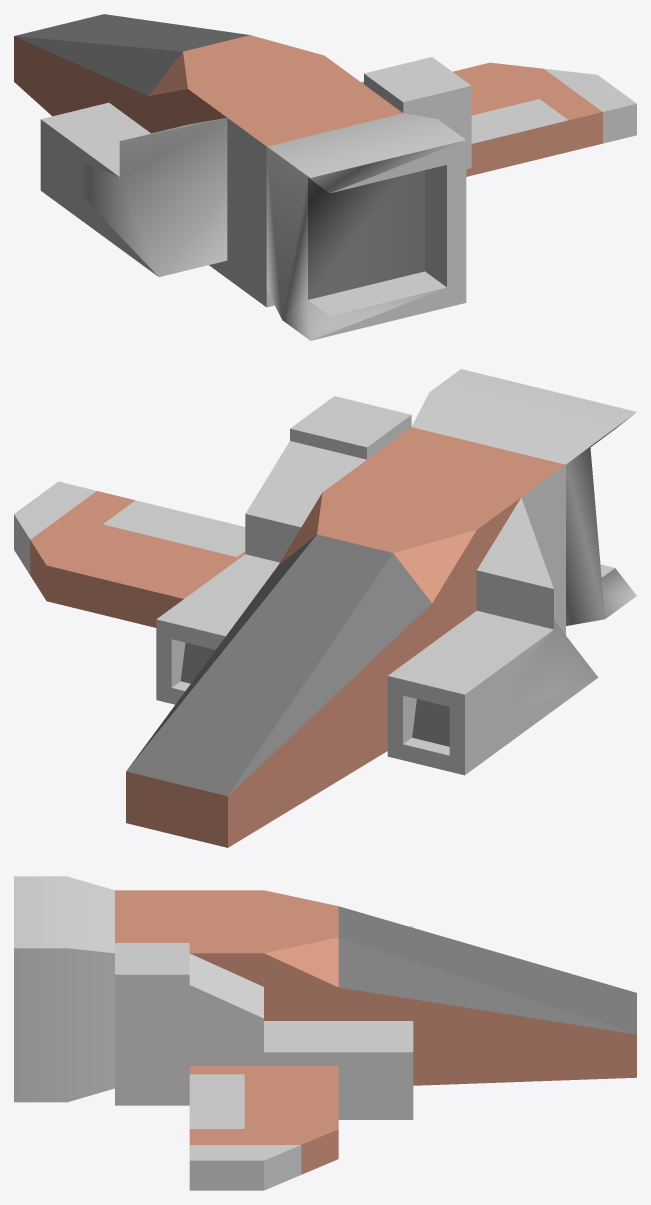
3 views of the same model, one above another, from view 1: azimuth 30°, elevation 25°; view 2: azimuth 150°, elevation 25°; view 3: azimuth 270°, elevation 25° (orthographic). The views are drawn at different scales.
Visible parts, largest first — view 1: spaceCraft1_8angles; view 2: spaceCraft1_8angles; view 3: spaceCraft1_8angles.
Boxes of the visible parts, x1,y1,x2,y2 form: spaceCraft1_8angles: (14,14,636,340); spaceCraft1_8angles: (14,369,636,847); spaceCraft1_8angles: (14,876,636,1190).
Size of the model in its own units: 1383 by 475 by 1650.
